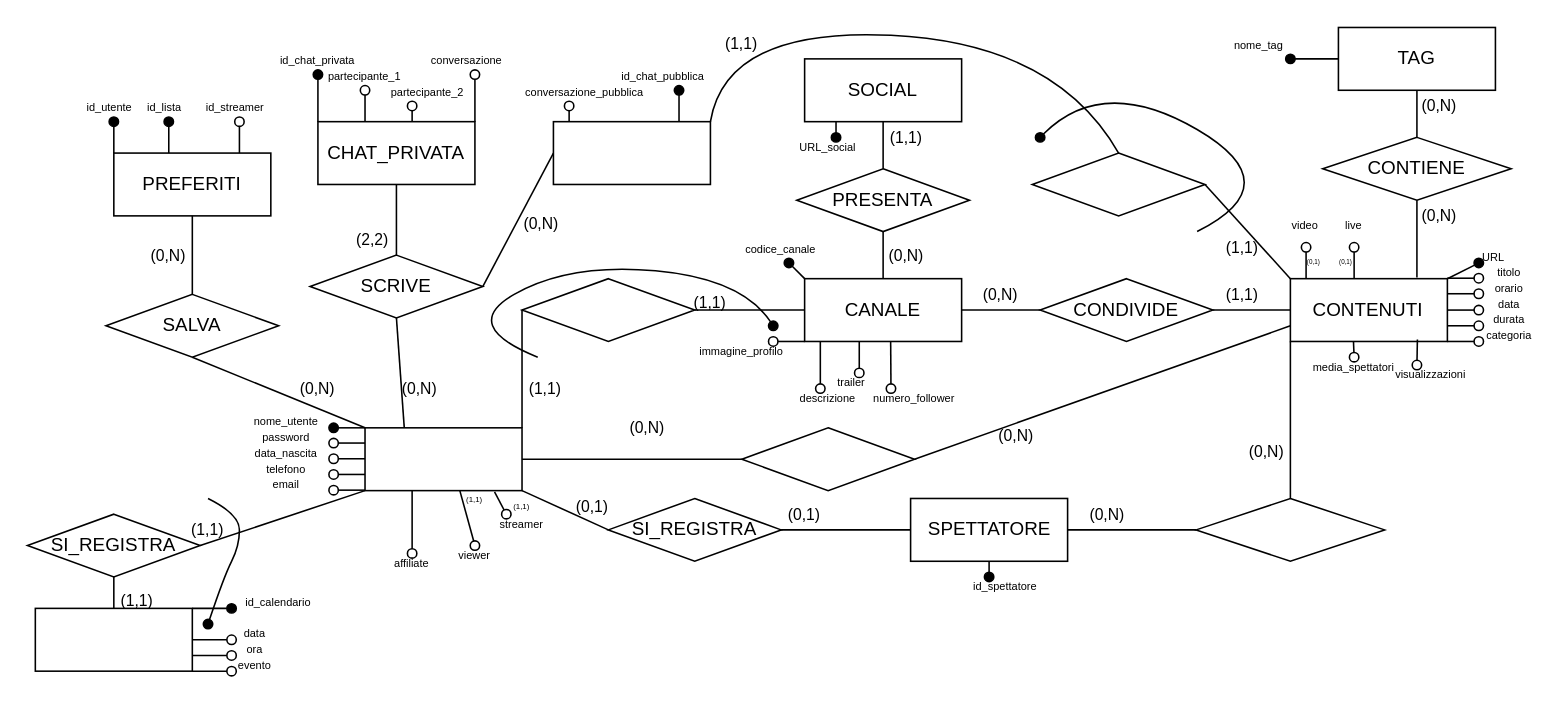
This 1561x711 diagram has some shape labels left out. The shapes that lost their labels are listed below. From the top down, each one's box as (x1, y1, x2, y2) in pixels, then its label:
(552, 120, 710, 184): CHAT_PUBBLICA
(1031, 152, 1205, 216): APPARTIENE
(520, 277, 695, 341): GESTISCE
(363, 426, 522, 491): UTENTE
(740, 426, 915, 491): INTERAGISCE
(1195, 497, 1385, 561): GUARDA
(34, 607, 192, 671): CALENDARIO
